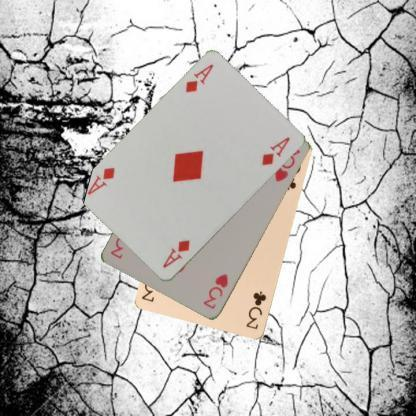3c: (244, 289, 268, 331)
3h: (201, 271, 230, 311)
Ad: (183, 61, 216, 94), (160, 237, 192, 270)
